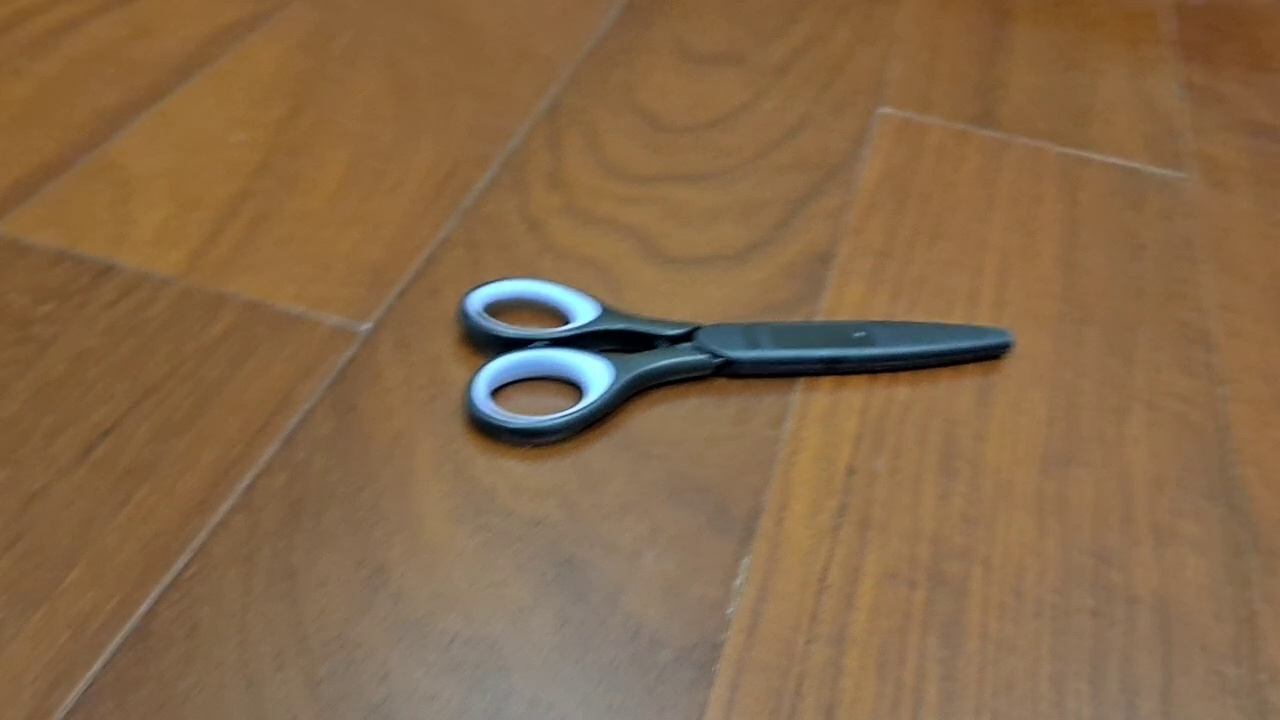scissors: (453, 275, 1016, 449)
